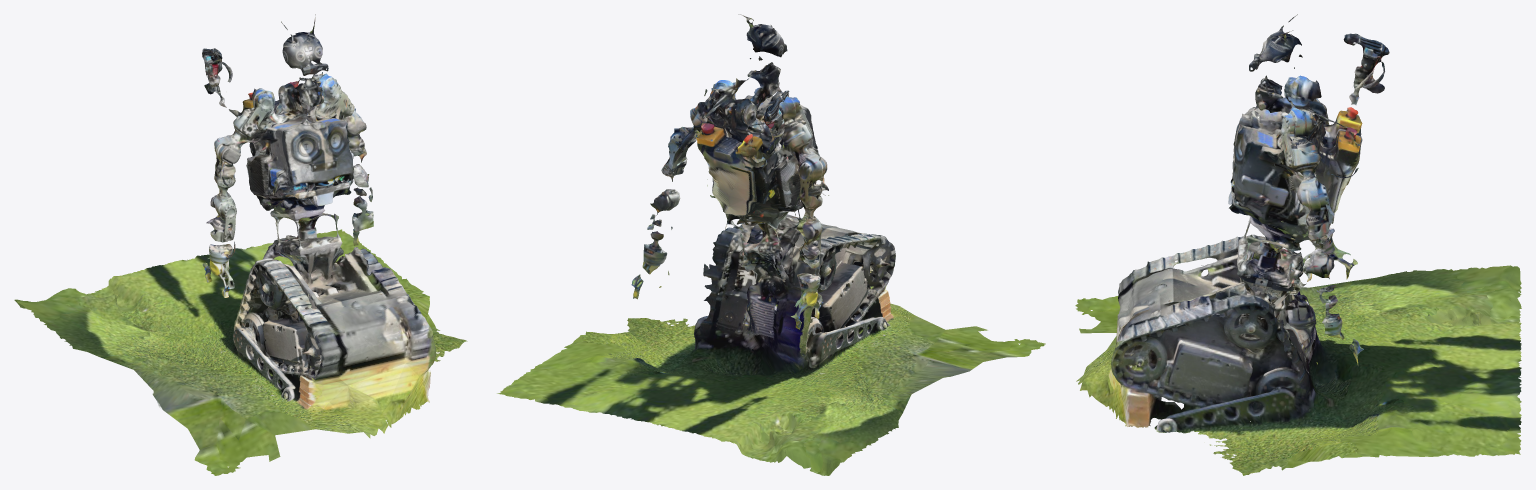
Rendered from rob-flipper-upright-wood-head-forward.glb.
The picture shows the model from 3 angles, left to right: view 1: azimuth 30°, elevation 25°; view 2: azimuth 150°, elevation 25°; view 3: azimuth 270°, elevation 25°; orthographic projection. The views are drawn at different scales.
Parts seen in each view (by area): view 1: ROB flipper upright wood head forward; view 2: ROB flipper upright wood head forward; view 3: ROB flipper upright wood head forward.
Part boxes in pixels (x1,y1,x2,y2): ROB flipper upright wood head forward: (14, 14, 467, 475); ROB flipper upright wood head forward: (497, 14, 1045, 475); ROB flipper upright wood head forward: (1075, 14, 1521, 475).
Bounding box in the file's own units: 1.28 × 1.26 × 1.36.
1 material, 1 textured.
